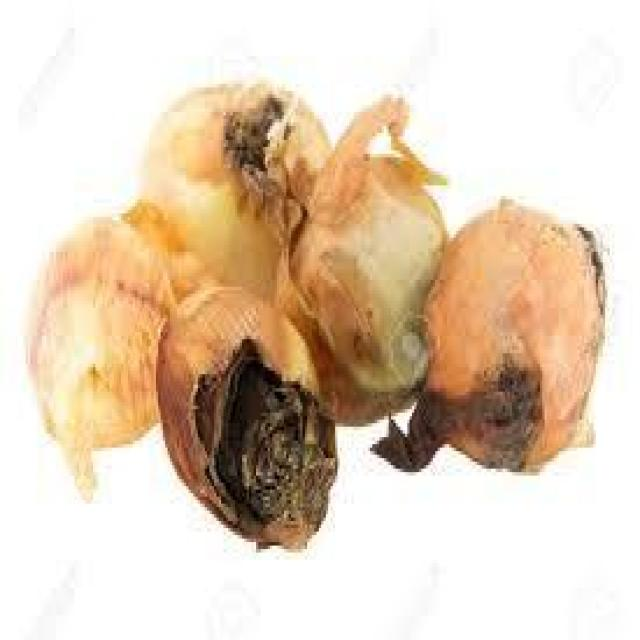Onion: (380, 194, 616, 502), (158, 283, 349, 570), (24, 215, 188, 495), (290, 138, 446, 429), (147, 72, 330, 292)
